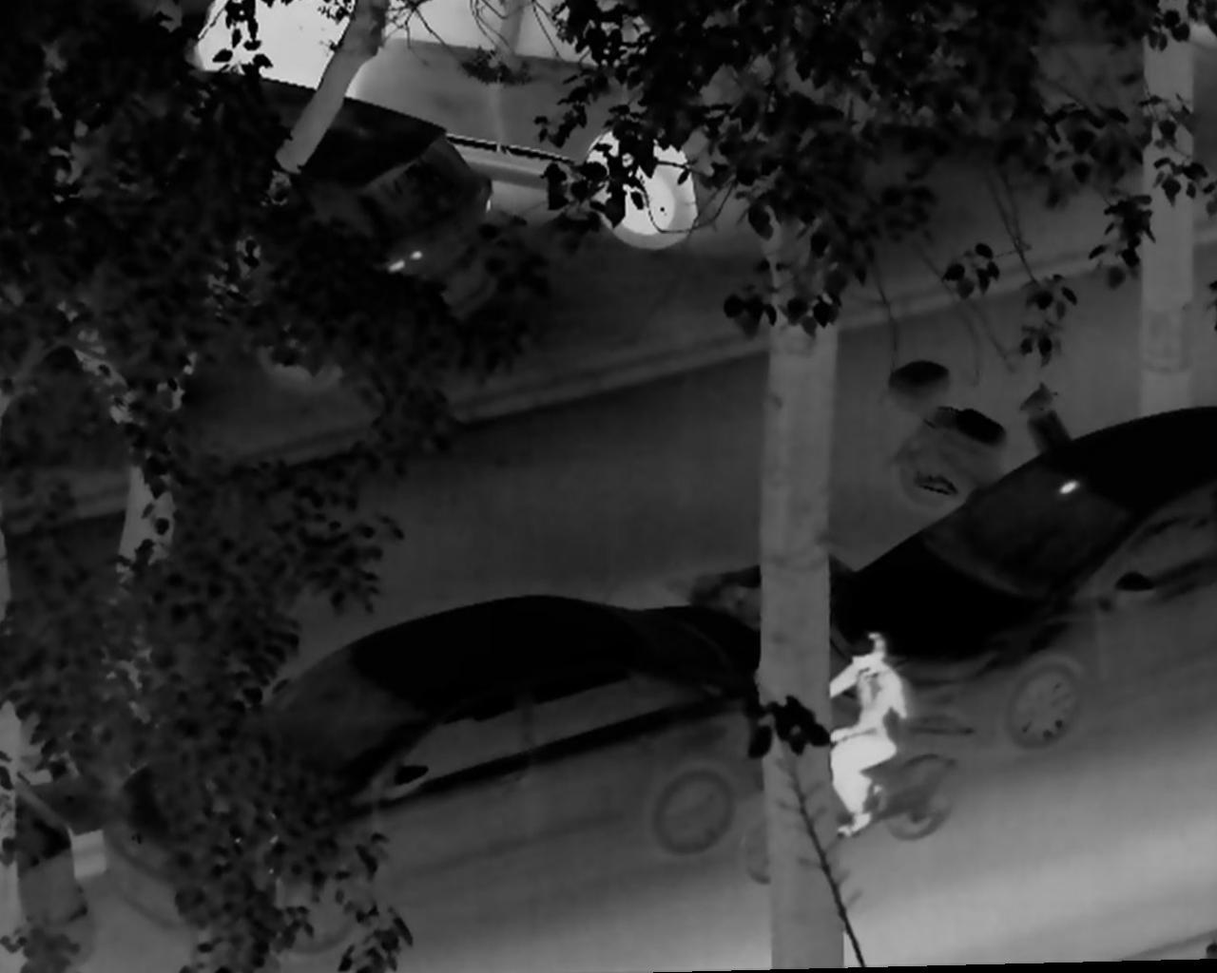person: (829, 632, 910, 841)
